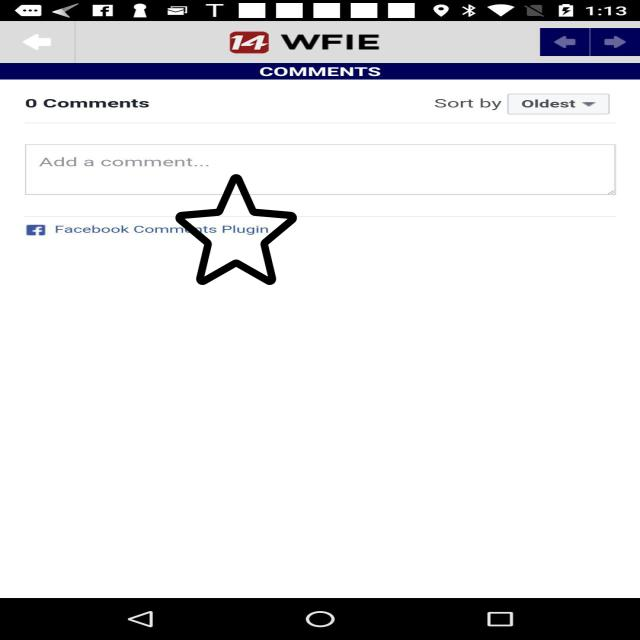forced continuity: (175, 172, 297, 287)
